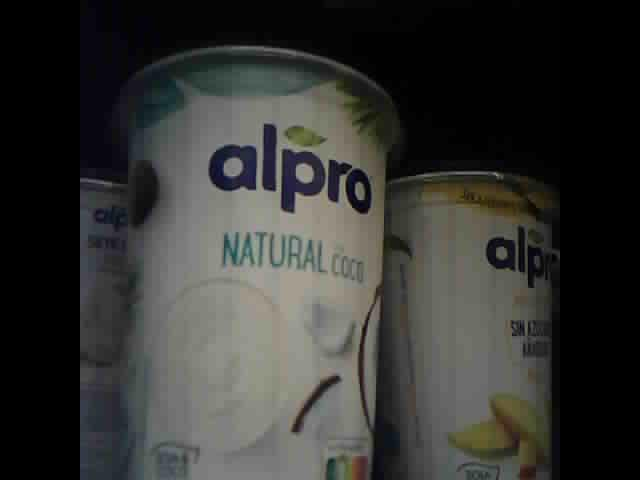alpro: (115, 42, 395, 480), (385, 169, 558, 480), (80, 161, 132, 479)
